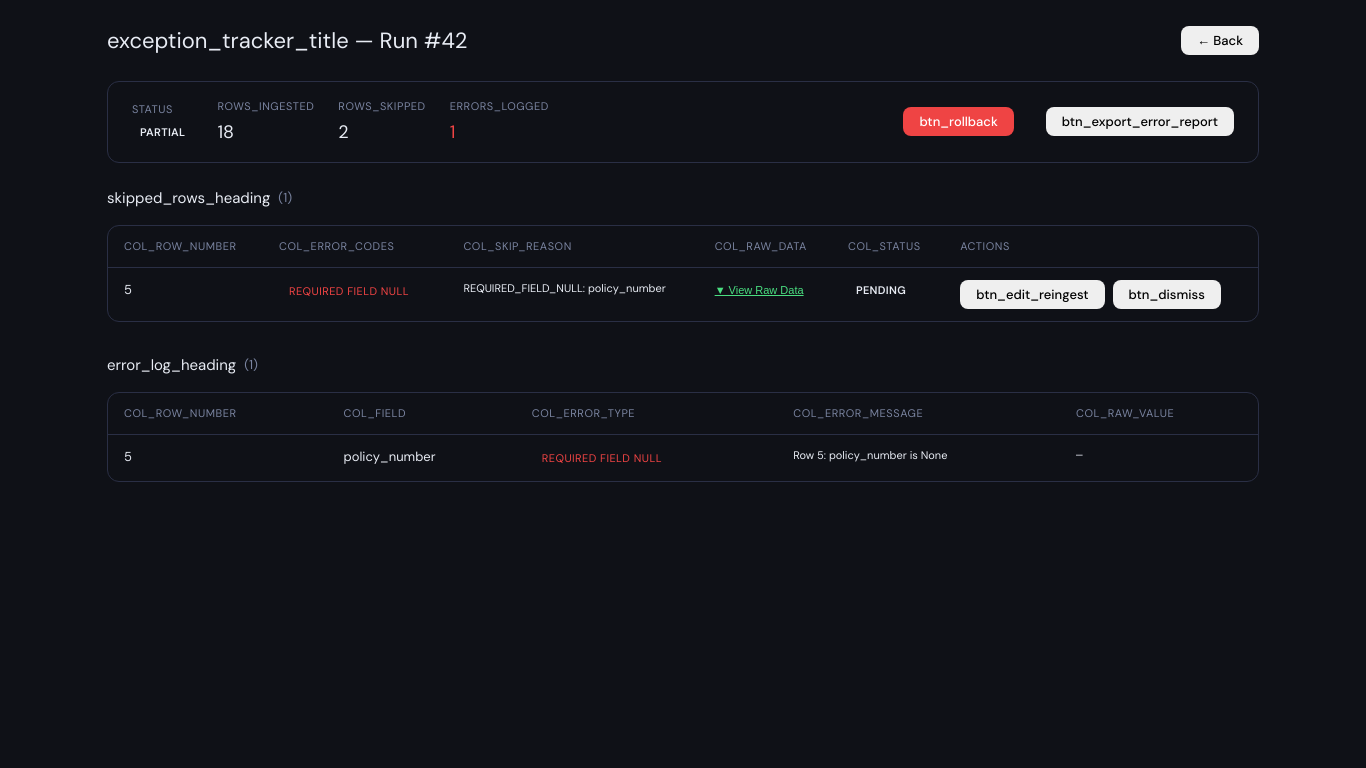
Scenario: ExceptionTracker › Rollback confirmation dialog opens
Click the button with test id "exception-tracker__rollback-btn".
click(959, 122)  # box 903,107 -> 1014,136
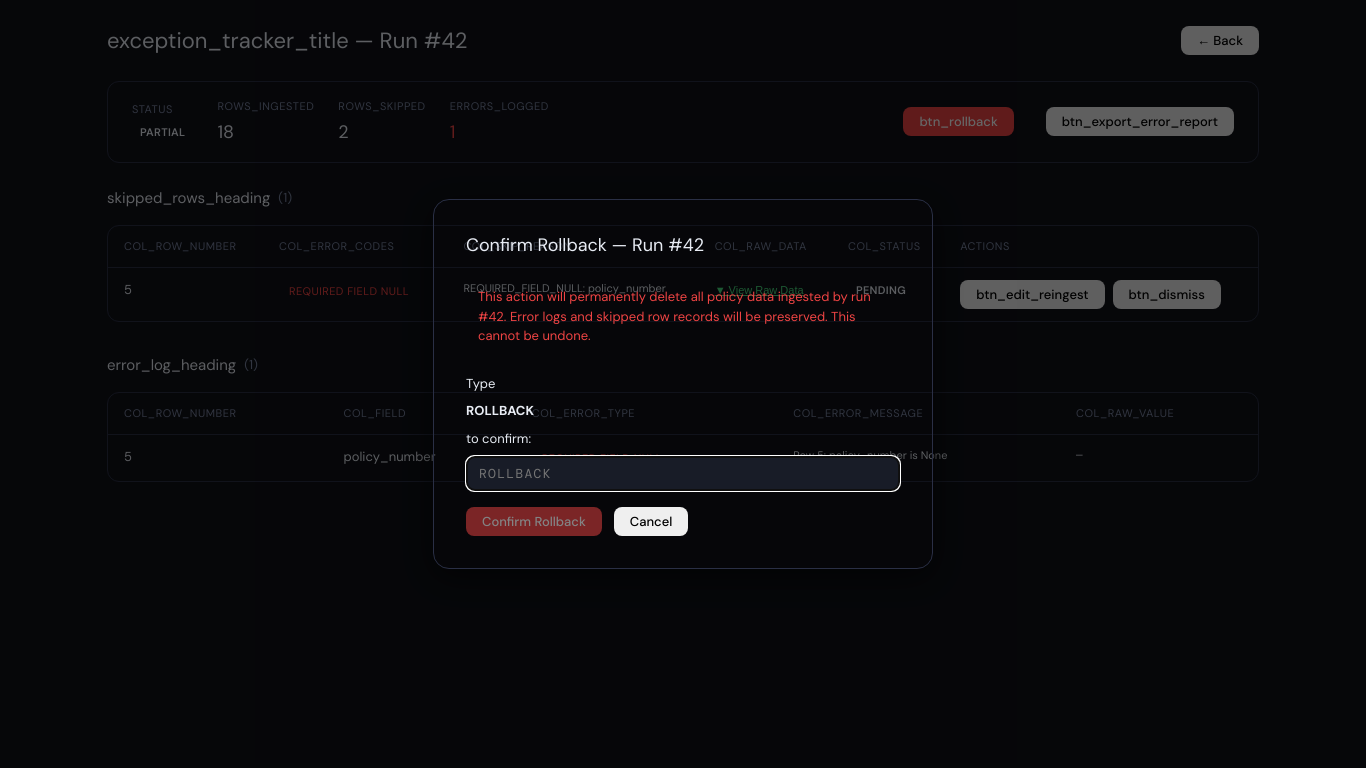
expect the dialog with test id "exception-tracker__rollback-dialog" is shown: met, box 433,199 -> 933,569
